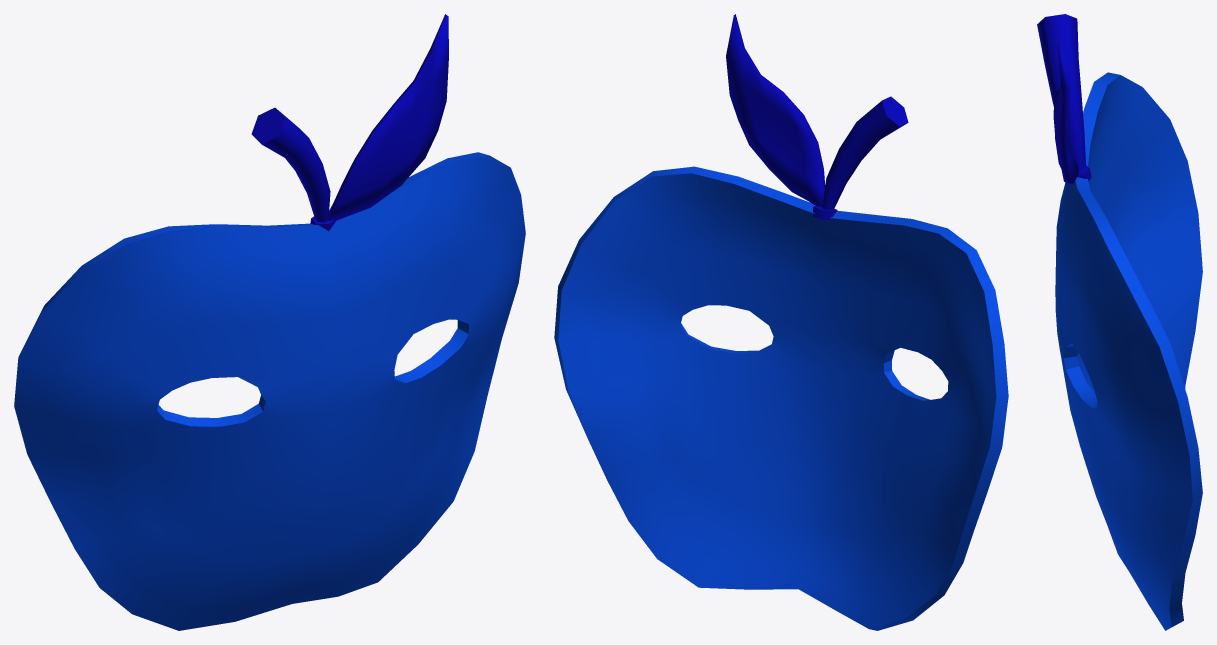
Rendered from Apple.fbx.
3 views of the same model, side by side, from view 1: azimuth 30°, elevation 25°; view 2: azimuth 150°, elevation 25°; view 3: azimuth 270°, elevation 25° (orthographic). The views are drawn at different scales.
Visible parts, largest first — view 1: Apple.001; view 2: Apple.001; view 3: Apple.001.
Part boxes in pixels (left/top/right/bottom): Apple.001: left=14, top=14, right=525, bottom=630; Apple.001: left=554, top=14, right=1008, bottom=630; Apple.001: left=1037, top=14, right=1202, bottom=630.
Size of the model in its own units: 23.8 by 27.01 by 6.82.
